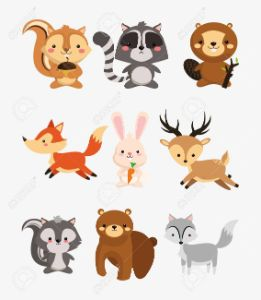bear: (93, 205, 161, 284)
fox: (21, 116, 107, 182)
wolf: (165, 211, 239, 280)
